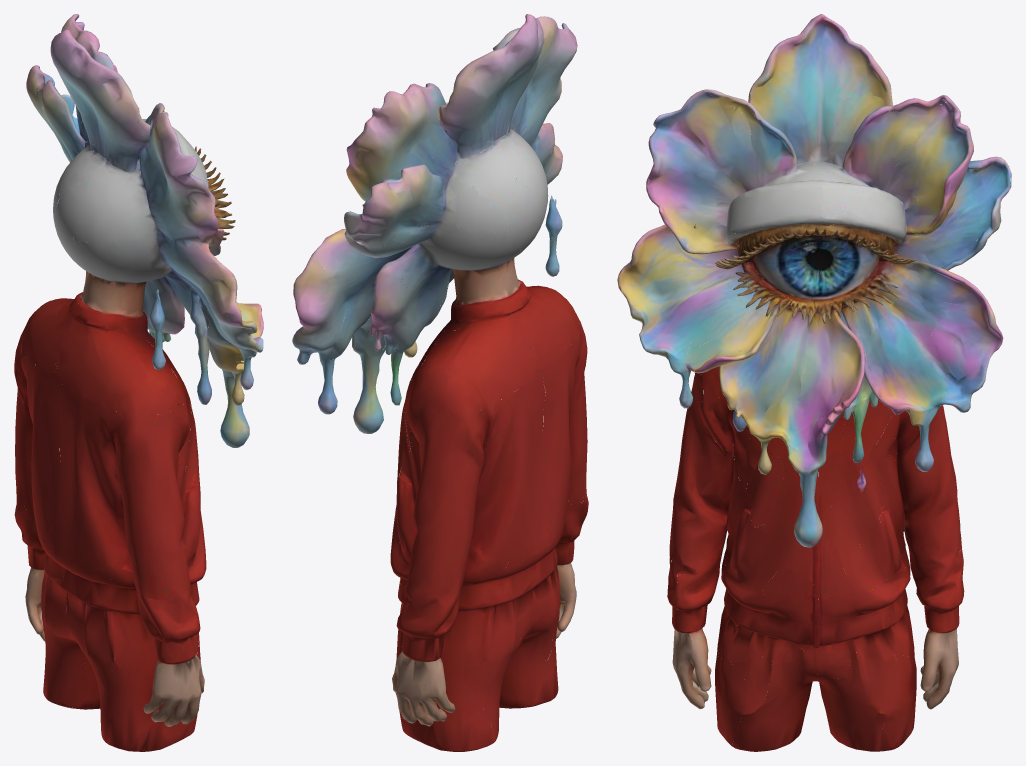
File: tracksuit.glb
3 renders of one model, left to right at view 1: azimuth 30°, elevation 25°; view 2: azimuth 150°, elevation 25°; view 3: azimuth 270°, elevation 25°, orthographic. The views are drawn at different scales.
Parts seen in each view (by area): view 1: tripo_node_d1e8ef6d-d458-4694-b6ff-342853e9222a; view 2: tripo_node_d1e8ef6d-d458-4694-b6ff-342853e9222a; view 3: tripo_node_d1e8ef6d-d458-4694-b6ff-342853e9222a.
Part boxes in pixels (bbox=[...]): tripo_node_d1e8ef6d-d458-4694-b6ff-342853e9222a: bbox=[14, 14, 263, 751]; tripo_node_d1e8ef6d-d458-4694-b6ff-342853e9222a: bbox=[292, 14, 588, 751]; tripo_node_d1e8ef6d-d458-4694-b6ff-342853e9222a: bbox=[617, 14, 1011, 751].
Bounding box in the file's own units: 0.2939 × 0.9999 × 0.5146.
Materials: 1 (1 with a texture image).
